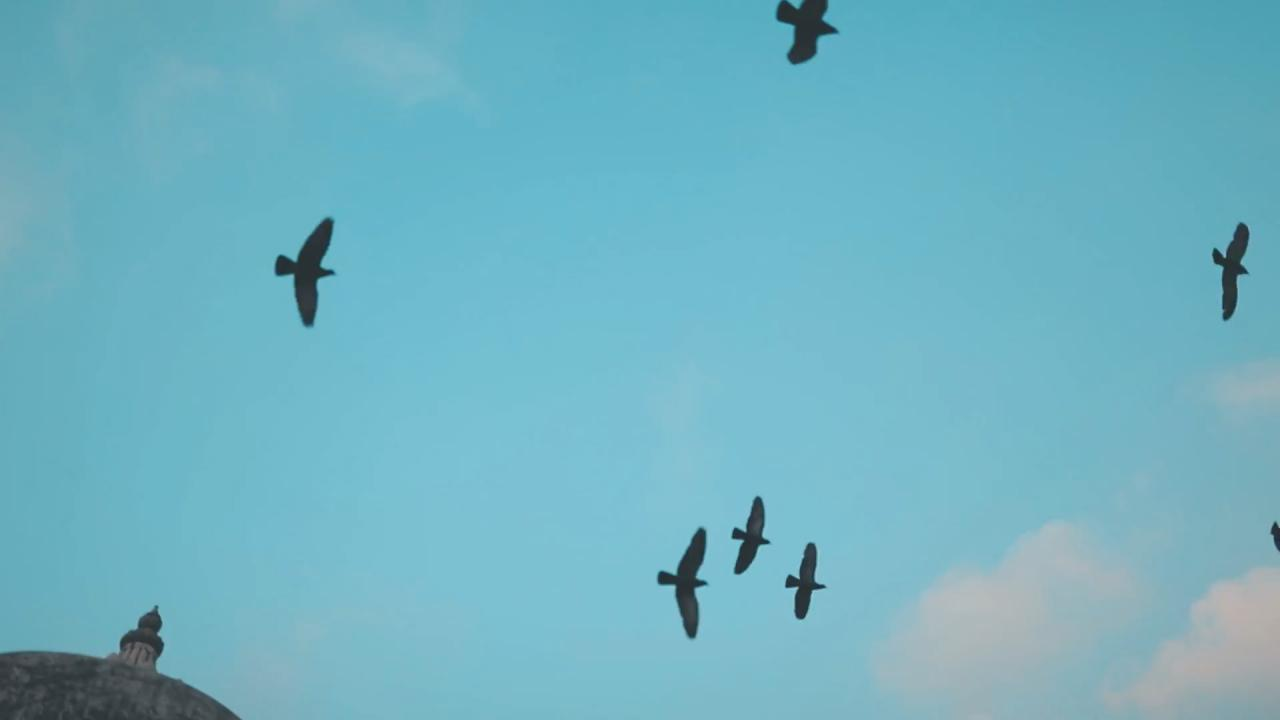Bird: (257, 203, 365, 339), (650, 521, 720, 648), (1199, 212, 1264, 330), (761, 0, 852, 72), (780, 532, 831, 628), (729, 484, 776, 582)
